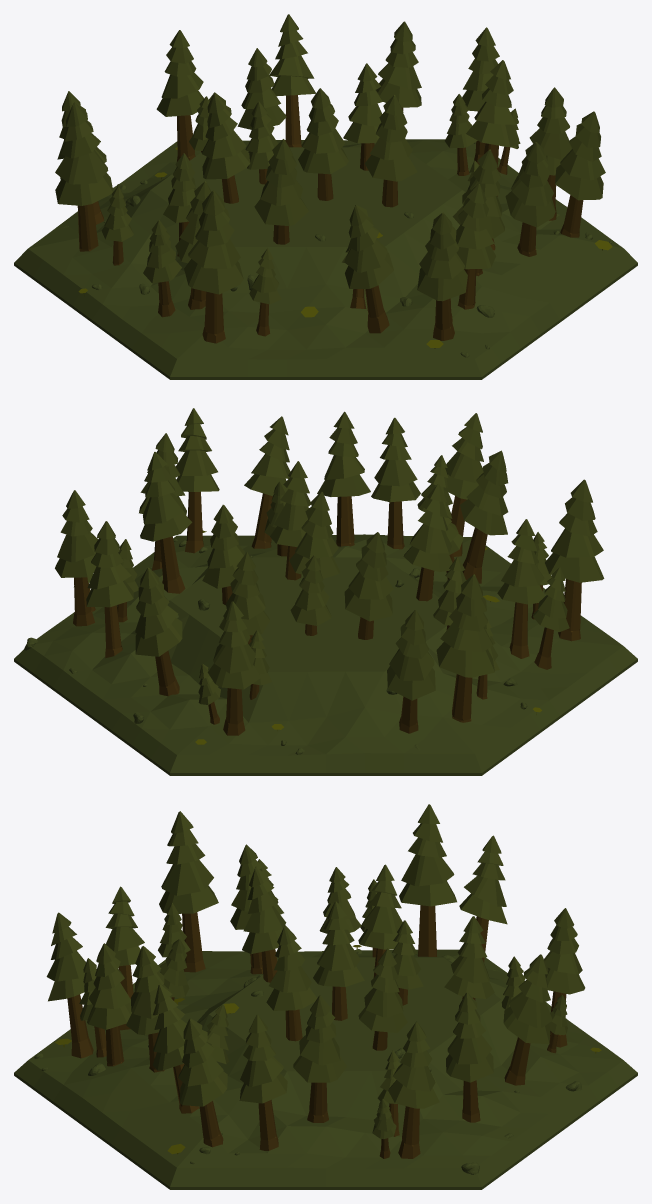
File: taiga.glb
The picture shows the model from 3 angles, top to bottom: view 1: azimuth 30°, elevation 25°; view 2: azimuth 150°, elevation 25°; view 3: azimuth 270°, elevation 25°; orthographic projection.
Visible parts, largest first — view 1: land, big_details, small_details; view 2: big_details, land, small_details; view 3: big_details, land, small_details.
Part boxes in pixels (x1,y1,x2,y2): land: [14, 139, 637, 379]; big_details: [55, 14, 605, 343]; small_details: [60, 142, 612, 357]; big_details: [55, 408, 604, 735]; land: [14, 534, 637, 775]; small_details: [24, 530, 541, 754]; big_details: [46, 804, 585, 1158]; land: [14, 949, 637, 1189]; small_details: [34, 945, 601, 1174].
Bounding box in the file's own units: 1.73 × 0.6154 × 2.
